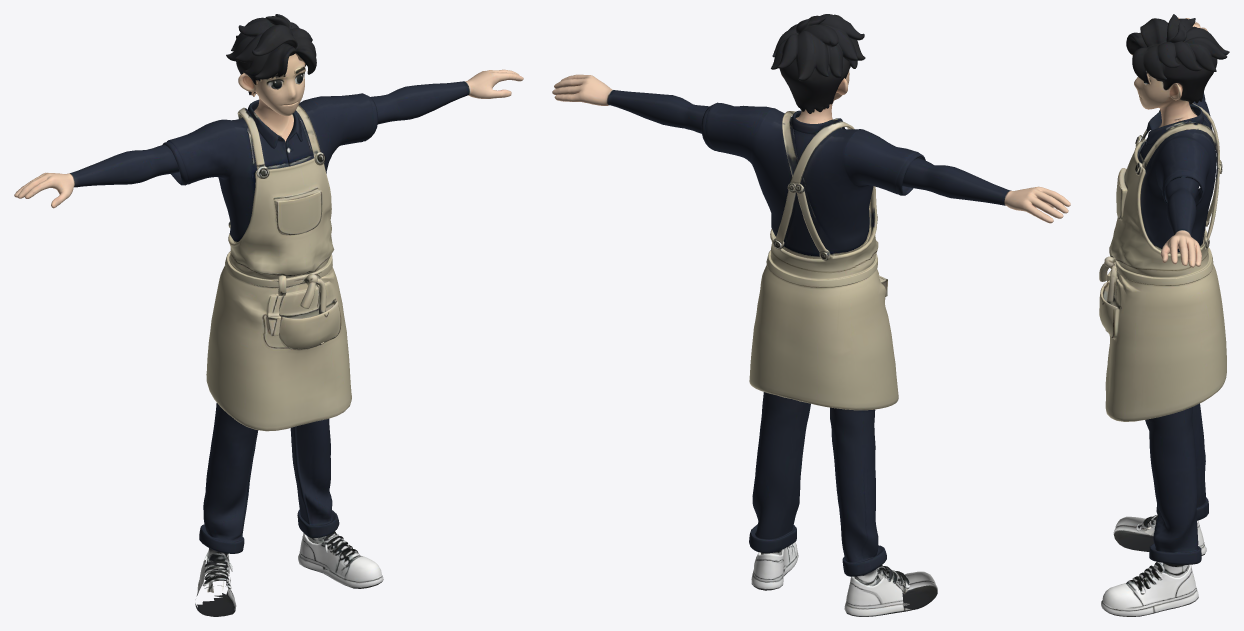
Rendered from toonstudio_cafe_worker.glb.
3 renders of one model, left to right at view 1: azimuth 30°, elevation 25°; view 2: azimuth 150°, elevation 25°; view 3: azimuth 270°, elevation 25°, orthographic. The views are drawn at different scales.
Parts seen in each view (by area): view 1: d02420e5_8e2e_48bf_a0c8_14b6b1905902; view 2: d02420e5_8e2e_48bf_a0c8_14b6b1905902; view 3: d02420e5_8e2e_48bf_a0c8_14b6b1905902.
Part boxes in pixels (x1,y1,x2,y2): d02420e5_8e2e_48bf_a0c8_14b6b1905902: [14, 14, 523, 616]; d02420e5_8e2e_48bf_a0c8_14b6b1905902: [552, 14, 1070, 616]; d02420e5_8e2e_48bf_a0c8_14b6b1905902: [1099, 14, 1229, 616].
Size of the model in its own units: 1.58 by 1.7 by 0.3579.
Materials: 1 (1 with a texture image).
